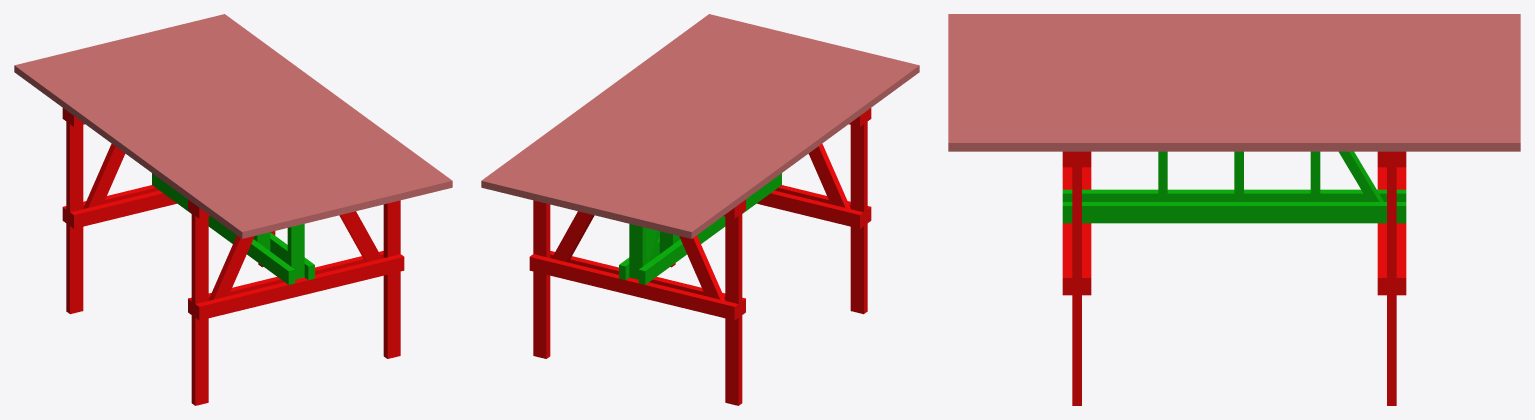
File: result?data=false.glb
3 renders of one model, left to right at view 1: azimuth 30°, elevation 25°; view 2: azimuth 150°, elevation 25°; view 3: azimuth 270°, elevation 25°, orthographic. The views are drawn at different scales.
Parts seen in each view (by area): view 1: f3d36579-ddbb-4ec5-ab5d-dfea879648e9__Box, e64d3ce6-0a22-4faa-a9e4-2aa412d26f38__sideH, f4808fd7-d6aa-45ee-83ae-4cf1d7ce0563__sideV, a9637fee-b428-4db5-b307-d143628670ff__undefined, d7f689b0-10a8-4da4-8173-3f8e43297a53__undefined, 6c041d09-edf4-4ebe-b990-10f32c75b6c4__undefined, e78cd2cc-86f6-45b1-a4f3-1506d84b9a28__undefined, bb07b837-b3fe-4e0c-a48c-17ec83f75ec5__undefined, b0a507e1-6b3b-4f33-b67b-255882d55b58__undefined, a3b7b991-3ec7-4168-a7a2-352b3f1e0316__undefined, 055d06cd-5442-4772-8a09-d0085ec0f9f6__undefined, 7ff6bff2-9001-4e68-944c-d1546fbfe3d1__undefined (+17 smaller); view 2: f3d36579-ddbb-4ec5-ab5d-dfea879648e9__Box, ac0c08f7-a45f-4c7d-bafb-78a97ada7f1c__undefined, a9637fee-b428-4db5-b307-d143628670ff__undefined, f4808fd7-d6aa-45ee-83ae-4cf1d7ce0563__sideV, d7f689b0-10a8-4da4-8173-3f8e43297a53__undefined, 6c041d09-edf4-4ebe-b990-10f32c75b6c4__undefined, e78cd2cc-86f6-45b1-a4f3-1506d84b9a28__undefined, bb07b837-b3fe-4e0c-a48c-17ec83f75ec5__undefined, b0a507e1-6b3b-4f33-b67b-255882d55b58__undefined, a3b7b991-3ec7-4168-a7a2-352b3f1e0316__undefined, 055d06cd-5442-4772-8a09-d0085ec0f9f6__undefined, 7ff6bff2-9001-4e68-944c-d1546fbfe3d1__undefined (+16 smaller); view 3: bb07b837-b3fe-4e0c-a48c-17ec83f75ec5__undefined, acd05368-a5af-438d-9fb5-00e193b8e83b__strutH, d7f689b0-10a8-4da4-8173-3f8e43297a53__undefined, b0a507e1-6b3b-4f33-b67b-255882d55b58__undefined, 5e163980-6c57-4bf3-8b21-e09e8a71d8a3__undefined, 951c7b24-27c3-4e33-ab06-de30797c86e4__undefined, 6c041d09-edf4-4ebe-b990-10f32c75b6c4__undefined, a3b7b991-3ec7-4168-a7a2-352b3f1e0316__undefined, 055d06cd-5442-4772-8a09-d0085ec0f9f6__undefined, ae85559c-c75b-4e47-b0d5-1340b0b647cc__undefined, 5ee7dea3-19dc-49a4-8ff8-fdf165924263__undefined, 6d83160a-01d0-4c9c-afa9-87d378bcdc32__undefined (+16 smaller).
Boxes of the visible parts, <box> form: f3d36579-ddbb-4ec5-ab5d-dfea879648e9__Box: <box>14,62,255,238</box>; e64d3ce6-0a22-4faa-a9e4-2aa412d26f38__sideH: <box>195,254,404,320</box>; f4808fd7-d6aa-45ee-83ae-4cf1d7ce0563__sideV: <box>191,202,208,405</box>; a9637fee-b428-4db5-b307-d143628670ff__undefined: <box>66,110,83,314</box>; d7f689b0-10a8-4da4-8173-3f8e43297a53__undefined: <box>41,55,281,232</box>; 6c041d09-edf4-4ebe-b990-10f32c75b6c4__undefined: <box>93,43,334,219</box>; e78cd2cc-86f6-45b1-a4f3-1506d84b9a28__undefined: <box>172,23,413,200</box>; bb07b837-b3fe-4e0c-a48c-17ec83f75ec5__undefined: <box>212,14,452,190</box>; b0a507e1-6b3b-4f33-b67b-255882d55b58__undefined: <box>54,52,294,229</box>; a3b7b991-3ec7-4168-a7a2-352b3f1e0316__undefined: <box>107,39,347,216</box>; 055d06cd-5442-4772-8a09-d0085ec0f9f6__undefined: <box>120,36,360,213</box>; 7ff6bff2-9001-4e68-944c-d1546fbfe3d1__undefined: <box>28,59,268,235</box>; f3d36579-ddbb-4ec5-ab5d-dfea879648e9__Box: <box>678,62,919,238</box>; ac0c08f7-a45f-4c7d-bafb-78a97ada7f1c__undefined: <box>529,254,738,320</box>; a9637fee-b428-4db5-b307-d143628670ff__undefined: <box>725,202,742,405</box>; f4808fd7-d6aa-45ee-83ae-4cf1d7ce0563__sideV: <box>850,110,867,314</box>; d7f689b0-10a8-4da4-8173-3f8e43297a53__undefined: <box>652,55,892,232</box>; 6c041d09-edf4-4ebe-b990-10f32c75b6c4__undefined: <box>599,43,840,219</box>; e78cd2cc-86f6-45b1-a4f3-1506d84b9a28__undefined: <box>520,23,761,200</box>; bb07b837-b3fe-4e0c-a48c-17ec83f75ec5__undefined: <box>481,14,721,190</box>; b0a507e1-6b3b-4f33-b67b-255882d55b58__undefined: <box>639,52,879,229</box>; a3b7b991-3ec7-4168-a7a2-352b3f1e0316__undefined: <box>586,39,826,216</box>; 055d06cd-5442-4772-8a09-d0085ec0f9f6__undefined: <box>573,36,813,213</box>; 7ff6bff2-9001-4e68-944c-d1546fbfe3d1__undefined: <box>665,59,905,235</box>; bb07b837-b3fe-4e0c-a48c-17ec83f75ec5__undefined: <box>948,135,1520,151</box>; acd05368-a5af-438d-9fb5-00e193b8e83b__strutH: <box>1062,202,1406,223</box>; d7f689b0-10a8-4da4-8173-3f8e43297a53__undefined: <box>948,30,1520,38</box>; b0a507e1-6b3b-4f33-b67b-255882d55b58__undefined: <box>948,38,1520,46</box>; 5e163980-6c57-4bf3-8b21-e09e8a71d8a3__undefined: <box>948,46,1520,54</box>; 951c7b24-27c3-4e33-ab06-de30797c86e4__undefined: <box>948,54,1520,62</box>; 6c041d09-edf4-4ebe-b990-10f32c75b6c4__undefined: <box>948,62,1520,70</box>; a3b7b991-3ec7-4168-a7a2-352b3f1e0316__undefined: <box>948,70,1520,78</box>; 055d06cd-5442-4772-8a09-d0085ec0f9f6__undefined: <box>948,78,1520,86</box>; ae85559c-c75b-4e47-b0d5-1340b0b647cc__undefined: <box>948,86,1520,94</box>; 5ee7dea3-19dc-49a4-8ff8-fdf165924263__undefined: <box>948,94,1520,102</box>; 6d83160a-01d0-4c9c-afa9-87d378bcdc32__undefined: <box>948,102,1520,110</box>.
Size of the model in its own units: 800 by 765 by 1500.
